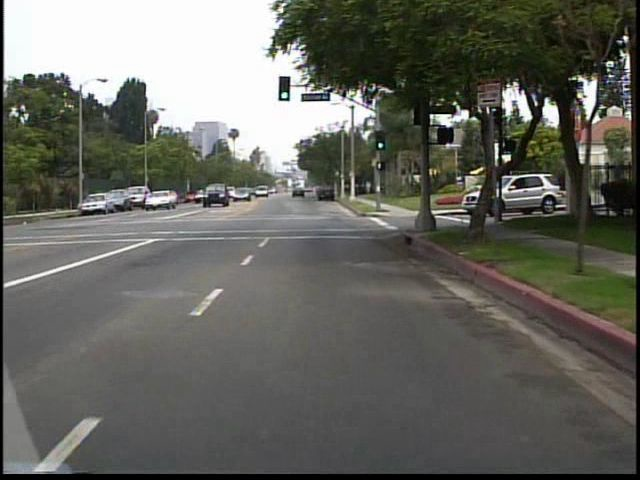person: (354, 177, 363, 200), (365, 176, 374, 196)
